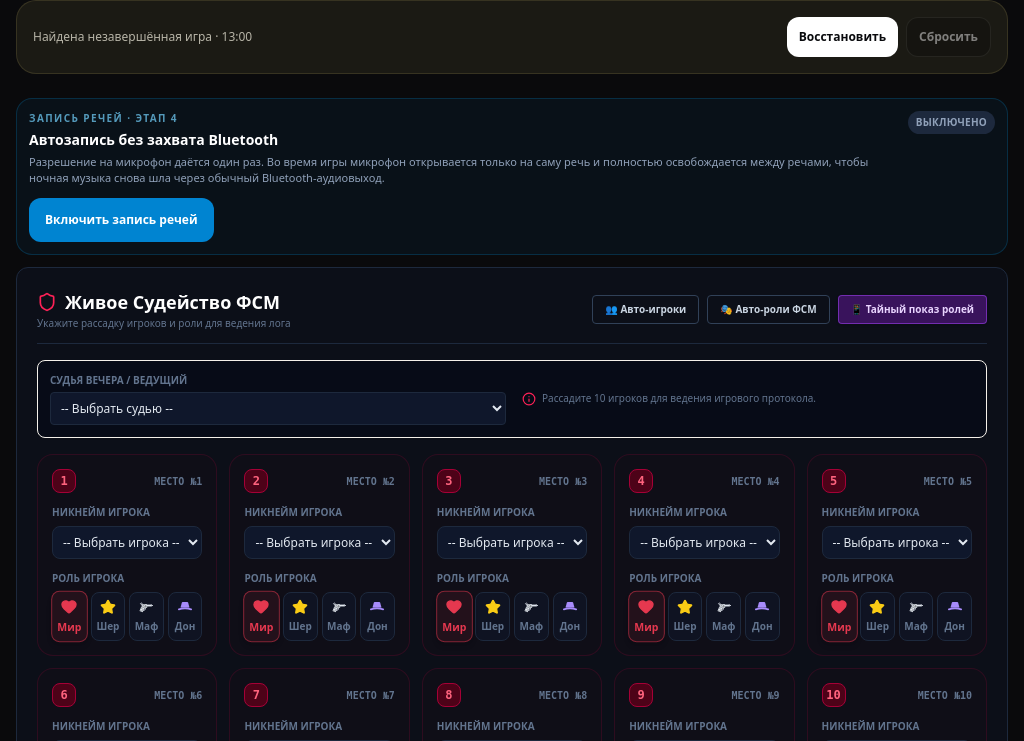
Test: Live Game: announcement step before a voting › announces a single zero-round candidate and leads to the night
Click the button "Восстановить": (842, 37) x1=787 y1=17 x2=898 y2=57
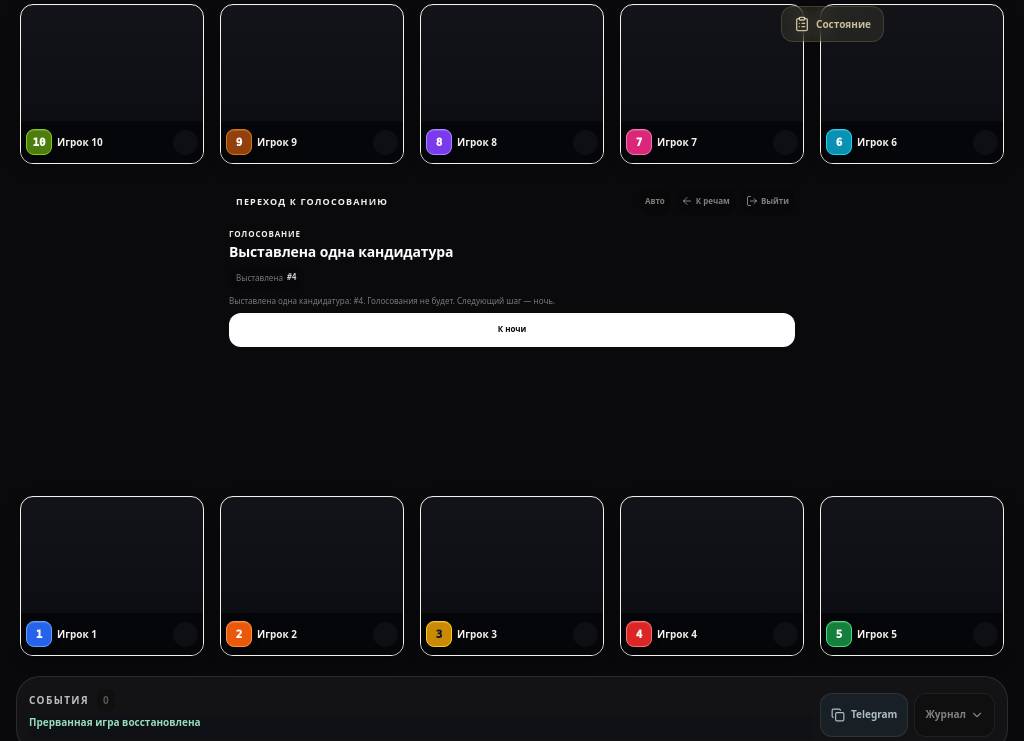
Check: the element with test id "live-voting-announcement" shows "Выставлена одна кандидатура", box x1=229 y1=242 x2=453 y2=261
Check: the element with test id "live-voting-announcement" shows "Голосования не будет", box x1=229 y1=295 x2=555 y2=306
Click the button with test id "live-zero-single-to-night": (512, 330) x1=229 y1=313 x2=795 y2=347
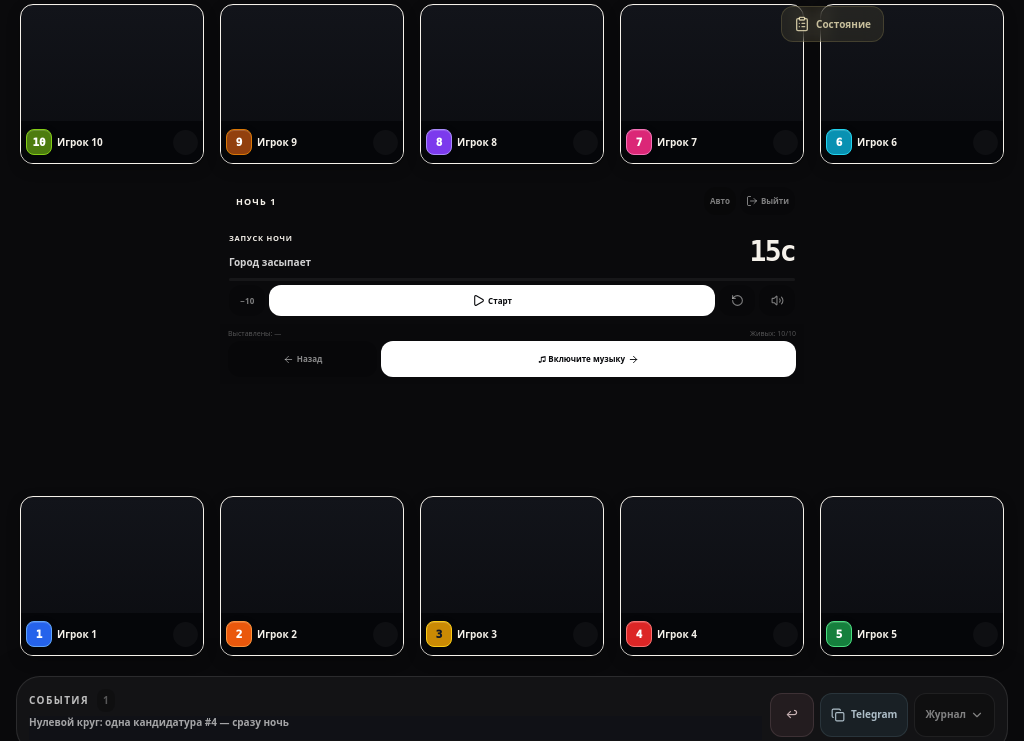
Check: the text "Ночь 1" is shown, box x1=236 y1=194 x2=277 y2=208
